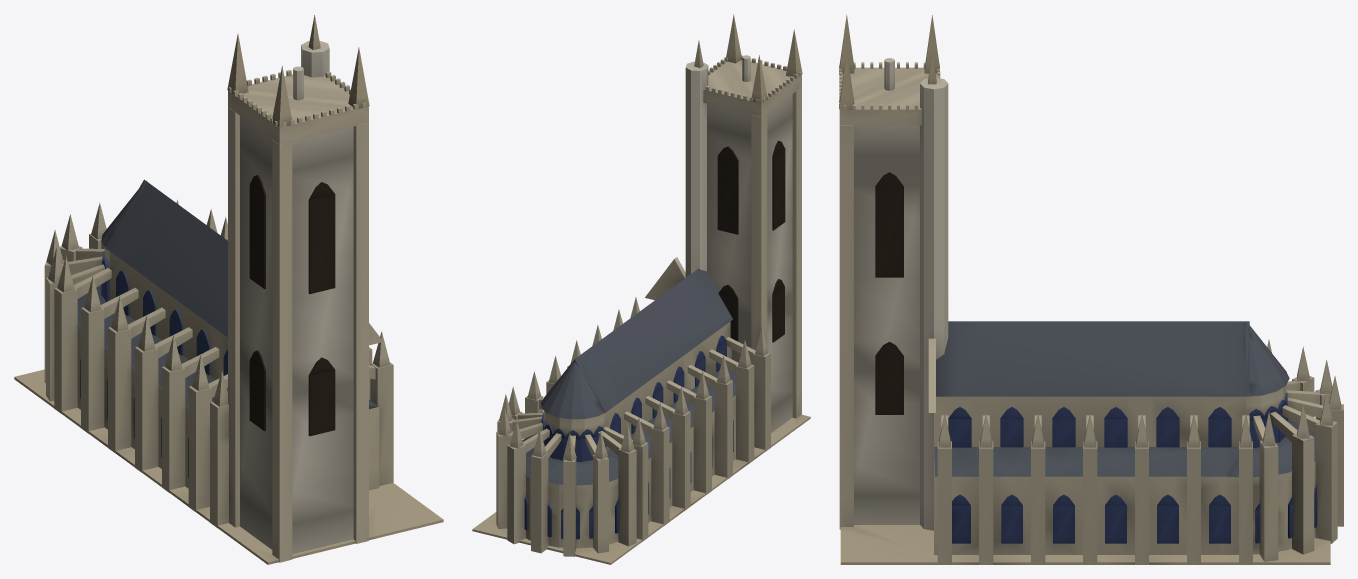
File: saint-jacques.glb
The picture shows the model from 3 angles, left to right: view 1: azimuth 30°, elevation 25°; view 2: azimuth 150°, elevation 25°; view 3: azimuth 270°, elevation 25°; orthographic projection. The views are drawn at different scales.
Parts seen in each view (by area): view 1: p2_tower, p1_roofs, p0_walls; view 2: p1_roofs, p2_tower, p0_walls; view 3: p1_roofs, p2_tower, p0_walls.
Boxes of the visible parts, x1,y1,x2,y2 form: p2_tower: [227, 15, 369, 562]; p1_roofs: [44, 179, 393, 527]; p0_walls: [14, 247, 443, 564]; p1_roofs: [496, 268, 770, 556]; p2_tower: [685, 14, 802, 432]; p0_walls: [472, 257, 810, 564]; p1_roofs: [934, 321, 1343, 564]; p2_tower: [839, 14, 948, 530]; p0_walls: [840, 338, 1330, 564].
Size of the model in its own units: 22.05 by 59.02 by 56.67.
